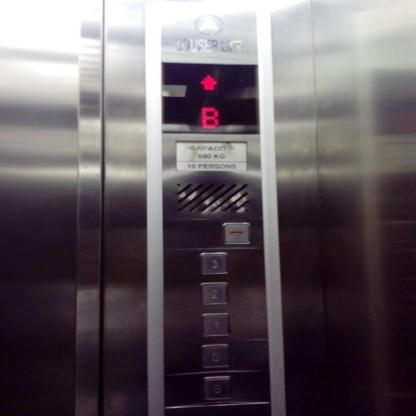1: (201, 313, 230, 337)
2: (199, 282, 228, 305)
3: (199, 252, 228, 275)
B: (203, 375, 232, 400)
G: (201, 344, 230, 368)
call: (221, 222, 252, 246)
led: (160, 62, 260, 134)
